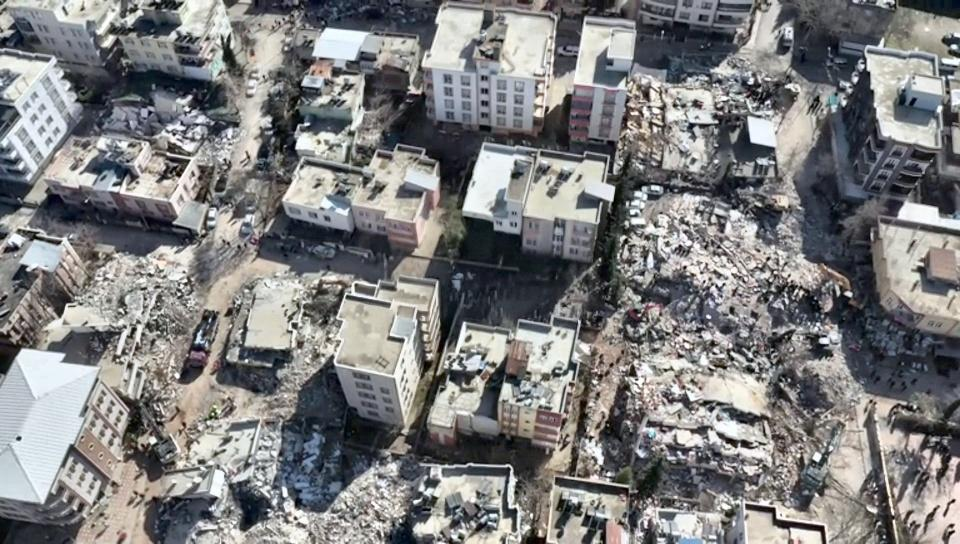kapali: (771, 139, 864, 441), (497, 275, 778, 356), (127, 380, 239, 543)
